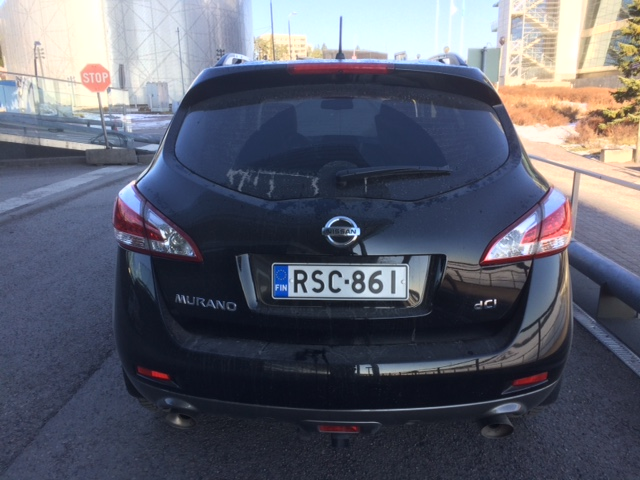license: (272, 260, 407, 307)
